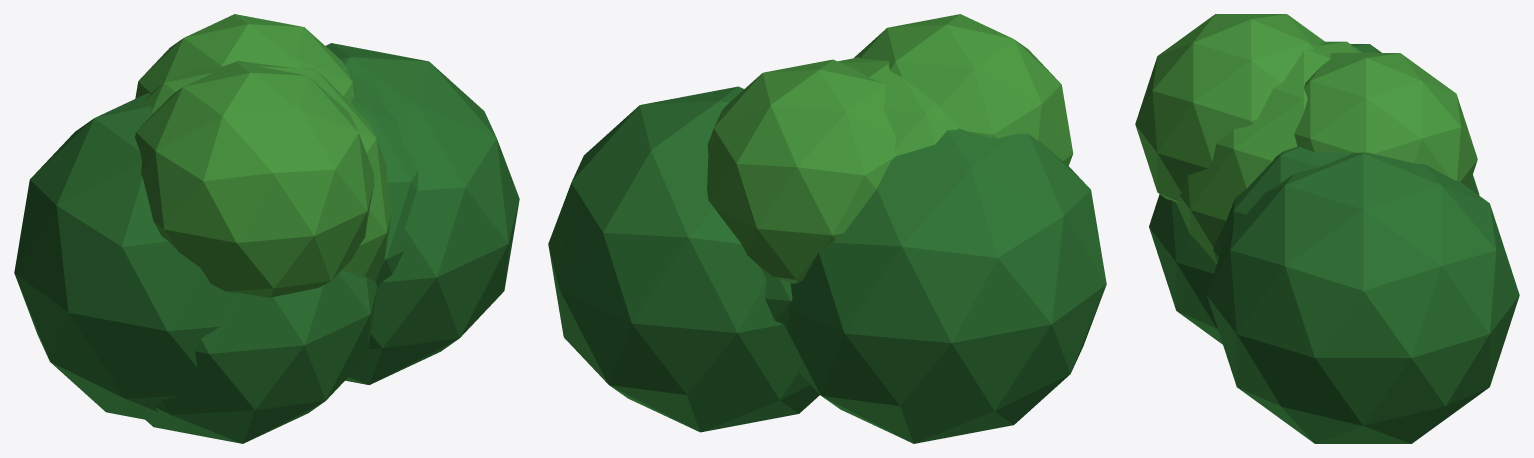
File: Bush.fbx
The picture shows the model from 3 angles, left to right: view 1: azimuth 30°, elevation 25°; view 2: azimuth 150°, elevation 25°; view 3: azimuth 270°, elevation 25°; orthographic projection. The views are drawn at different scales.
Visible parts, largest first — view 1: LeavesDark, Leaves; view 2: LeavesDark, Leaves; view 3: LeavesDark, Leaves.
Boxes of the visible parts, x1,y1,x2,y2 form: LeavesDark: [14, 43, 519, 443]; Leaves: [135, 14, 391, 297]; LeavesDark: [548, 86, 1106, 443]; Leaves: [707, 14, 1073, 283]; LeavesDark: [1149, 44, 1519, 443]; Leaves: [1135, 14, 1477, 263].
Size of the model in its own units: 3.64 by 2.81 by 2.82.
